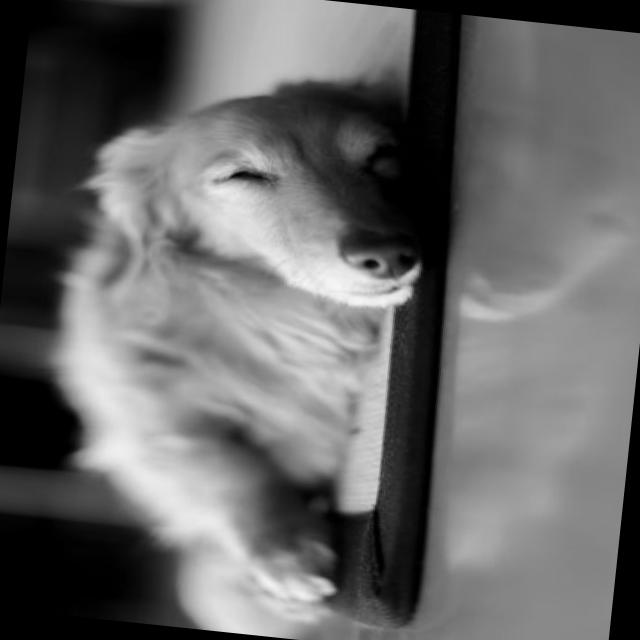laying down: (0, 33, 453, 634)
